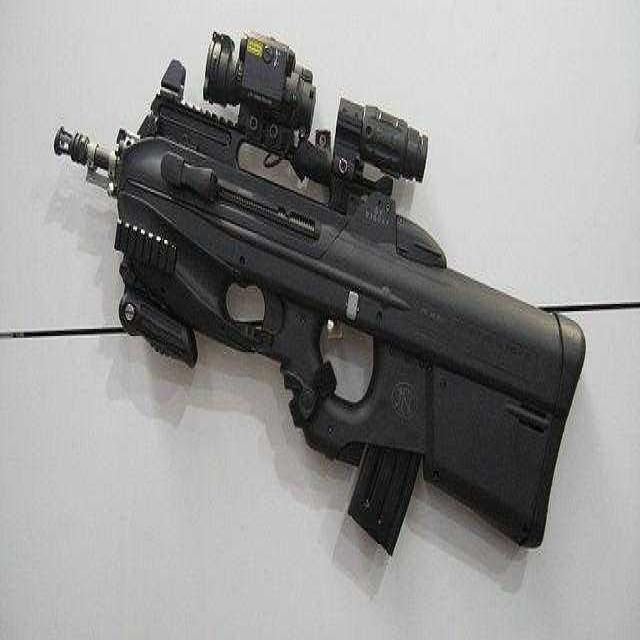weapon: (43, 36, 598, 566)
